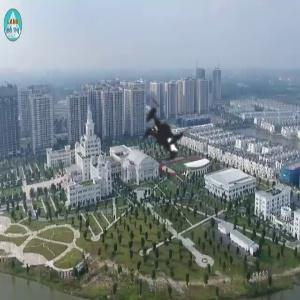drone: (76, 48, 262, 234)
